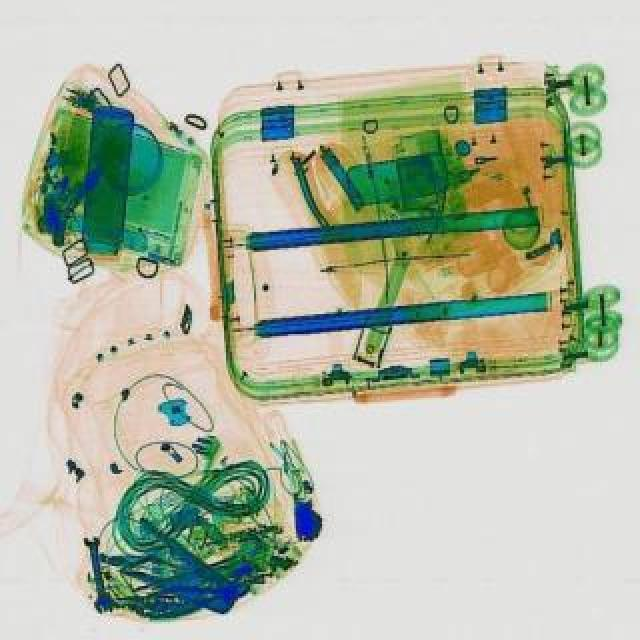scissors: (82, 536, 114, 610)
wrench: (104, 512, 250, 628), (142, 572, 250, 618)
